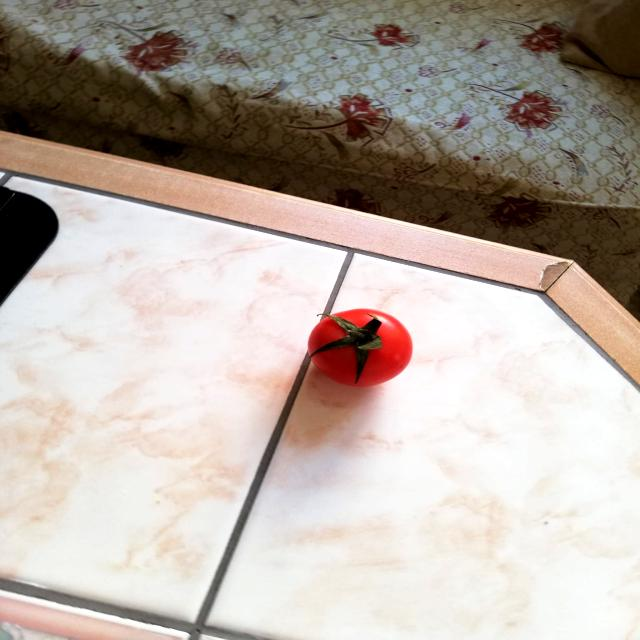tomato: (292, 298, 428, 393)
